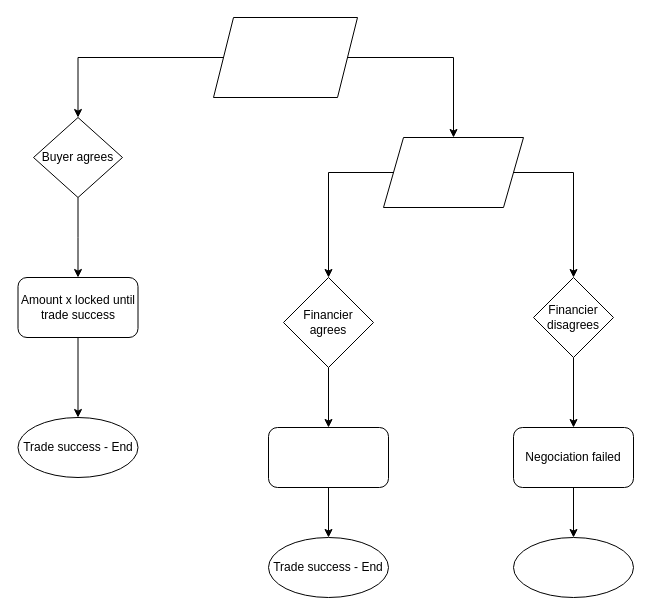
The diagram is 651 pixels wide and 615 high, and some of its shapes have lost their labels. The shapes that lost their labels are listed below. From the top down, each one's centre as x and y in pixels, then its label:
the point at 285,57: Financier proposes condition for a trade (x)
the point at 453,172: Buyer does counter proposal (y)
the point at 328,457: Amount y locked until trade success
the point at 573,567: Failed - End
